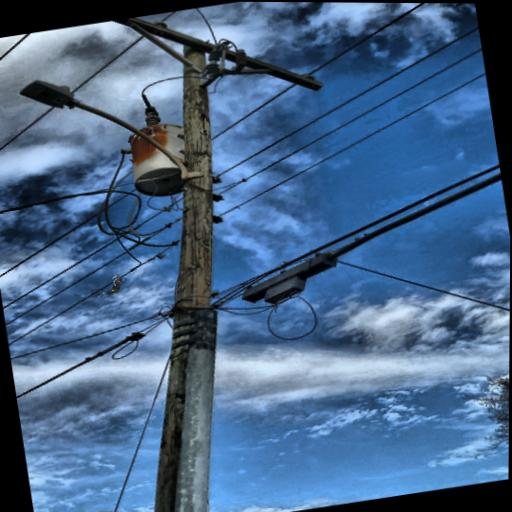pole: (23, 30, 296, 512)
street light: (9, 50, 205, 212)
transformer: (115, 113, 205, 207)
